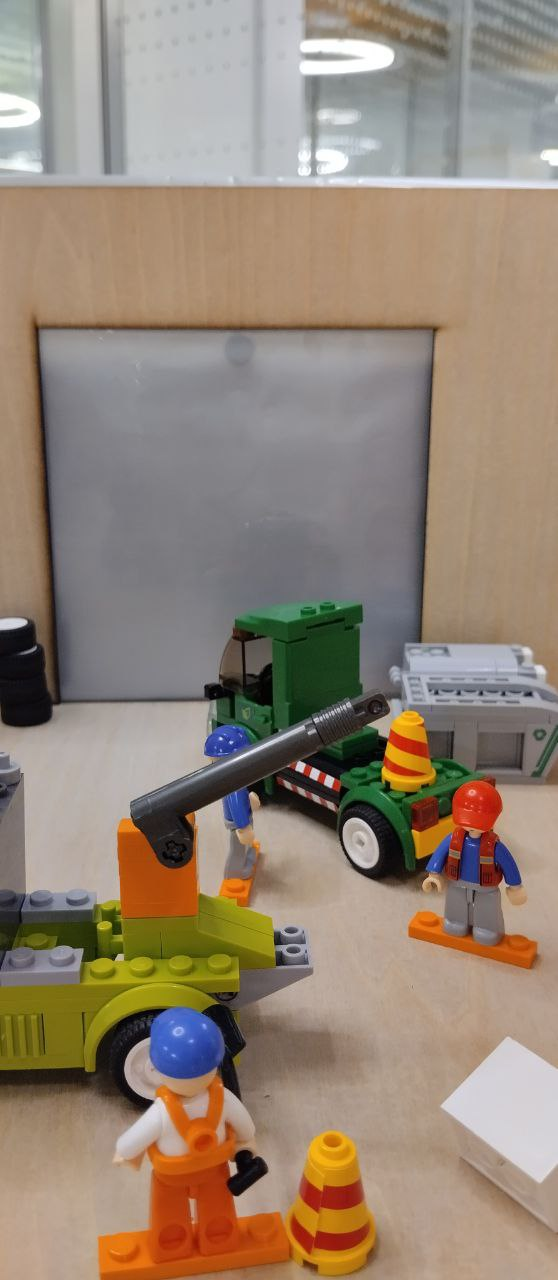Cone: (282, 1129, 376, 1280), (383, 711, 438, 789)
Crane: (0, 686, 399, 1113)
Object white: (438, 1038, 558, 1238)
Truck: (213, 594, 497, 873)
